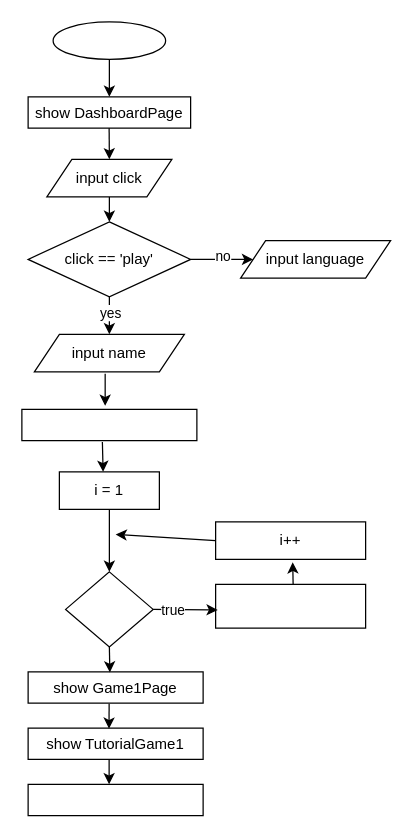
This 413x838 diagram has some shape labels left out. The centre of each missing label's shape, as x and y in pixels:
i <= 3: [108,609]
play Game1: [115,799]
play video[i]: [290,605]
show ScrollingVideoPage: [109,424]
Start: [109,40]
